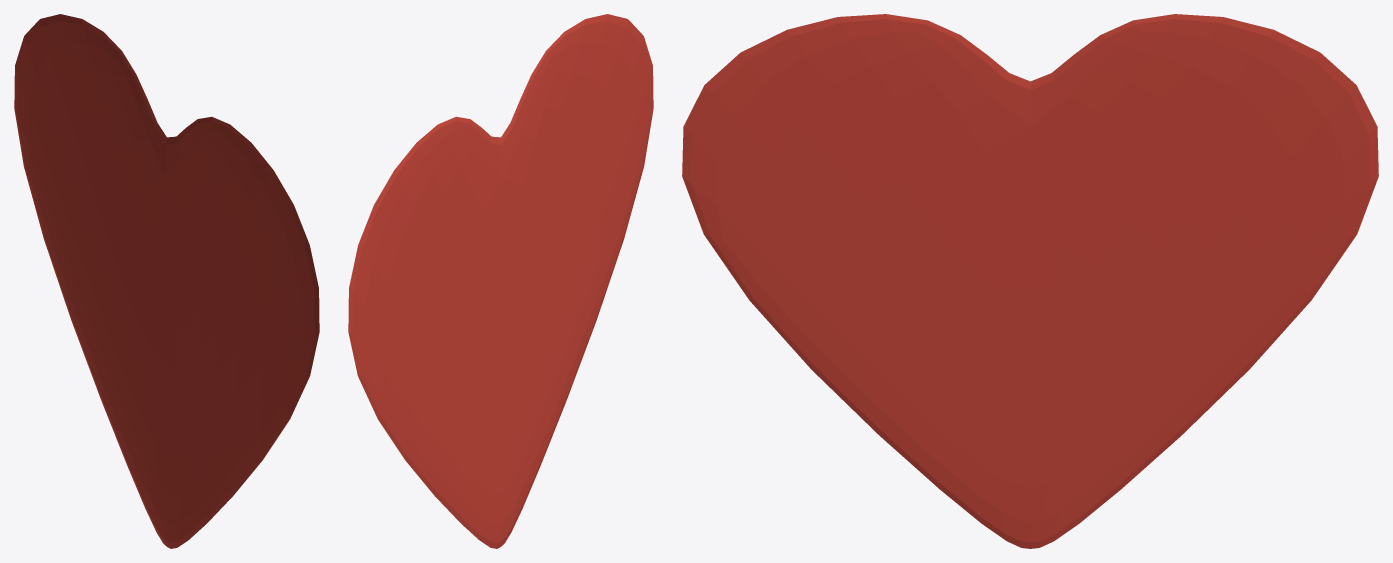
The model's file is Heart.fbx.
The picture shows the model from 3 angles, left to right: view 1: azimuth 30°, elevation 25°; view 2: azimuth 150°, elevation 25°; view 3: azimuth 270°, elevation 25°; orthographic projection. The views are drawn at different scales.
Visible parts, largest first — view 1: Plane; view 2: Plane; view 3: Plane.
Part boxes in pixels (bbox=[...]): Plane: bbox=[14, 14, 319, 548]; Plane: bbox=[348, 14, 653, 548]; Plane: bbox=[682, 14, 1378, 548].
Bounding box in the file's own units: 1.8 × 168 × 199.
